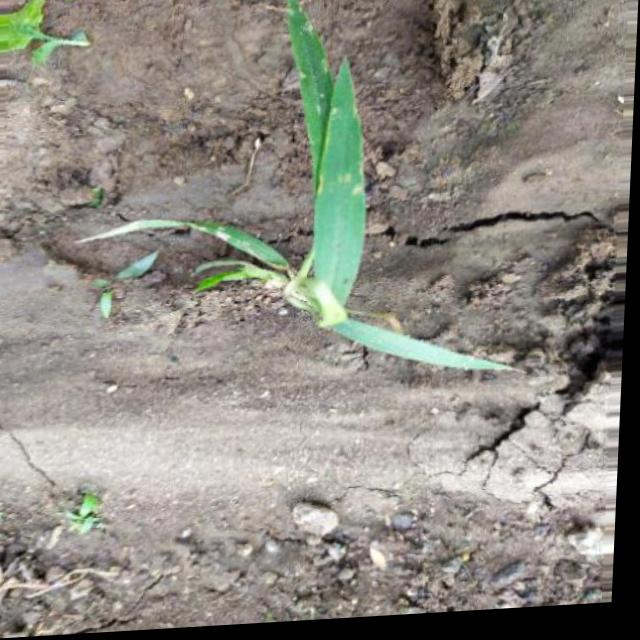weed: (98, 5, 565, 446)
